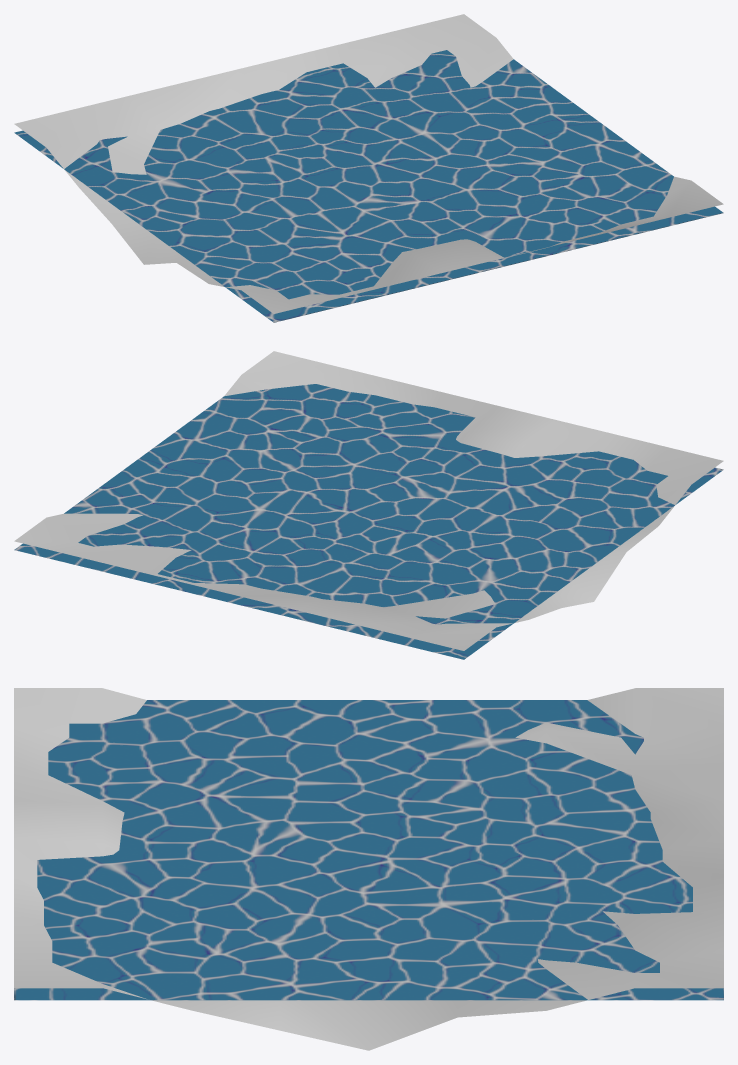
File: StraightawayWaterTile.fbx
3 renders of one model, top to bottom at view 1: azimuth 30°, elevation 25°; view 2: azimuth 150°, elevation 25°; view 3: azimuth 270°, elevation 25°, orthographic. The views are drawn at different scales.
Visible parts, largest first — view 1: WaterHole_Straight; view 2: WaterHole_Straight; view 3: WaterHole_Straight.
Part boxes in pixels (x1,y1,x2,y2): WaterHole_Straight: (14, 14, 723, 322); WaterHole_Straight: (14, 351, 723, 659); WaterHole_Straight: (14, 688, 723, 1050).
Size of the model in its own units: 100 by 15.51 by 100.
